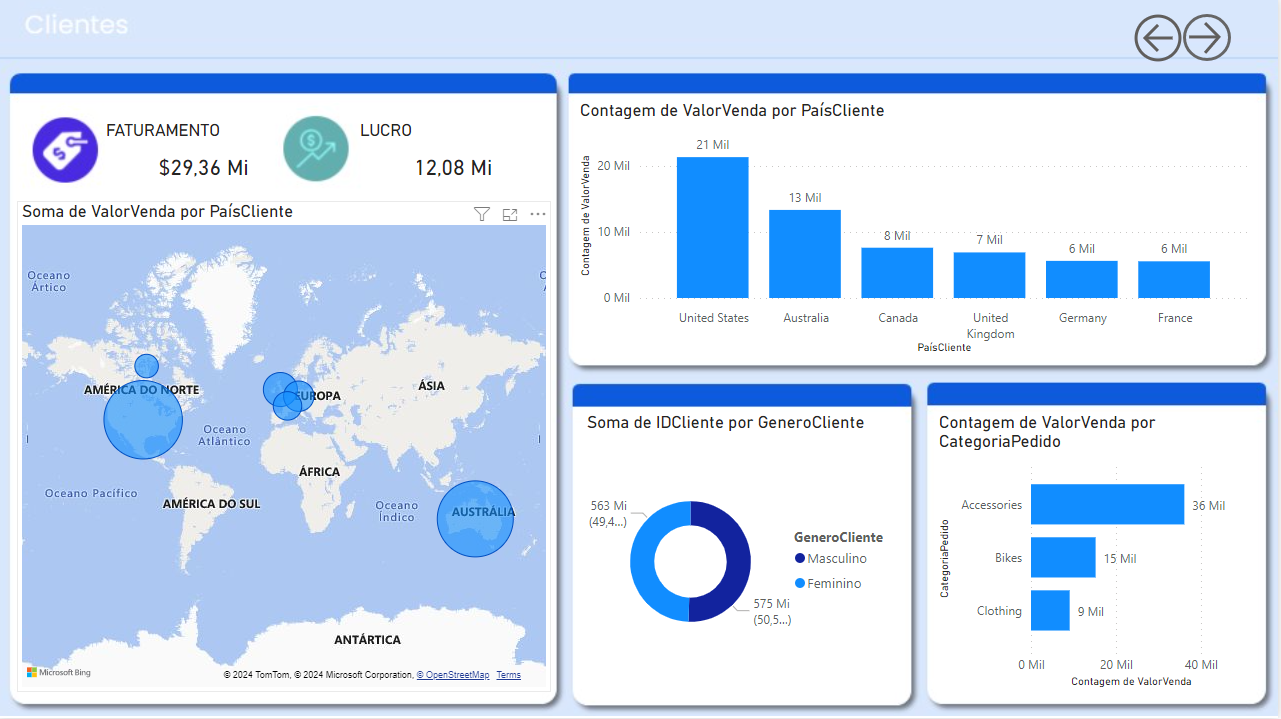

What the dashboard file says about the page in this screenshot:
{"tool":"powerbi","page":{"name":"CLIENTES","canvas":[1280,720],"ordinal":2},"visuals":[{"type":"actionButton","box":[1130,10,66,60],"z":0},{"type":"shape","box":[1185,16,48,47],"z":1000},{"type":"actionButton","box":[1185,19,58,42],"z":2000},{"type":"map","fields":{"Category":["vw_AnaliseVendas - vw_AnaliseVendas.PaísCliente"],"Size":["Sum(vw_AnaliseVendas - vw_AnaliseVendas.ValorVenda)"]},"box":[19,203,534,491],"z":2001},{"type":"card","title":"FATURAMENTO ","fields":{"Values":["Sum(vw_AnaliseVendas - vw_AnaliseVendas.ValorVenda)"]},"box":[103,122,205,74],"z":2002},{"type":"card","title":"LUCRO  ","fields":{"Values":["Sum(vw_AnaliseVendas - vw_AnaliseVendas.LucroVenda)"]},"box":[357,122,196,74],"z":2003},{"type":"columnChart","fields":{"Category":["vw_AnaliseVendas - vw_AnaliseVendas.PaísCliente"],"Y":["CountNonNull(vw_AnaliseVendas - vw_AnaliseVendas.ValorVenda)"]},"box":[577,102,679,258],"z":2004},{"type":"donutChart","fields":{"Category":["vw_AnaliseVendas - vw_AnaliseVendas.GeneroCliente"],"Y":["Sum(vw_AnaliseVendas - vw_AnaliseVendas.IDCliente)"]},"box":[584,414,323,280],"z":2005},{"type":"clusteredBarChart","fields":{"Category":["vw_AnaliseVendas - vw_AnaliseVendas.CategoriaPedido"],"Y":["CountNonNull(vw_AnaliseVendas - vw_AnaliseVendas.ValorVenda)"]},"box":[936,414,320,280],"z":2006}]}

Visuals, with their boxes in screenshot pixels (x1, y1, x2, y2), scaled from the page's 1280x720 canvas onto the 1281x719 screenshot:
actionButton: 1131, 10, 1197, 70
shape: 1186, 16, 1234, 63
actionButton: 1186, 19, 1244, 61
map - vw_AnaliseVendas - vw_AnaliseVendas.PaísCliente x Sum(vw_AnaliseVendas - vw_AnaliseVendas.ValorVenda): 19, 203, 553, 693
"FATURAMENTO " card: 103, 122, 308, 196
"LUCRO  " card: 357, 122, 553, 196
columnChart - vw_AnaliseVendas - vw_AnaliseVendas.PaísCliente x CountNonNull(vw_AnaliseVendas - vw_AnaliseVendas.ValorVenda): 577, 102, 1257, 360
donutChart - vw_AnaliseVendas - vw_AnaliseVendas.GeneroCliente x Sum(vw_AnaliseVendas - vw_AnaliseVendas.IDCliente): 584, 413, 908, 693
clusteredBarChart - vw_AnaliseVendas - vw_AnaliseVendas.CategoriaPedido x CountNonNull(vw_AnaliseVendas - vw_AnaliseVendas.ValorVenda): 937, 413, 1257, 693
